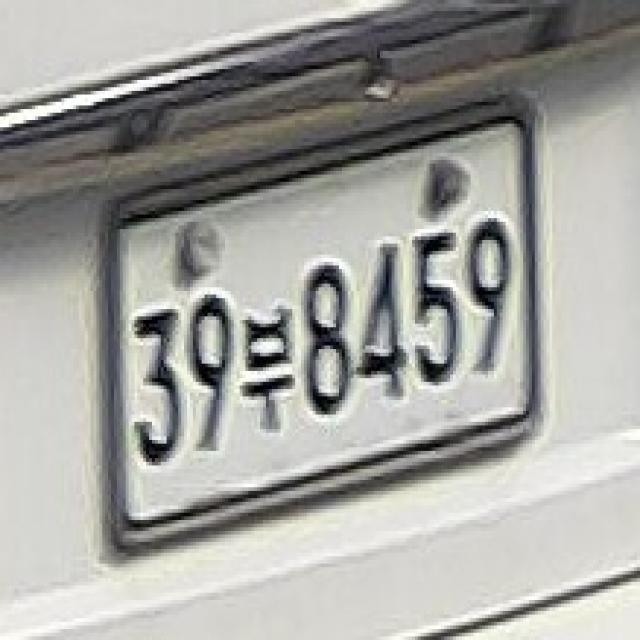3: (126, 302, 187, 469)
4: (357, 247, 409, 400)
5: (403, 229, 459, 396)
8: (298, 262, 351, 414)
9: (181, 294, 234, 451), (462, 218, 511, 378)
bu: (237, 302, 298, 433)
license_plate: (100, 91, 544, 553)
